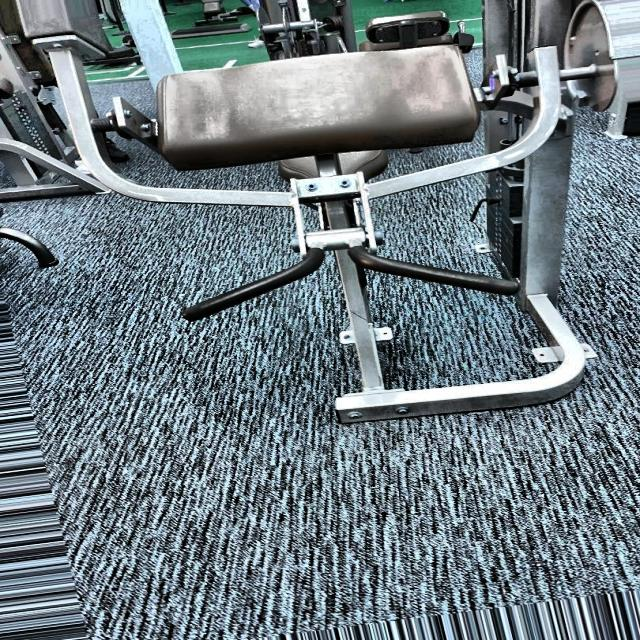bicep_curl_machine: (29, 28, 608, 443)
